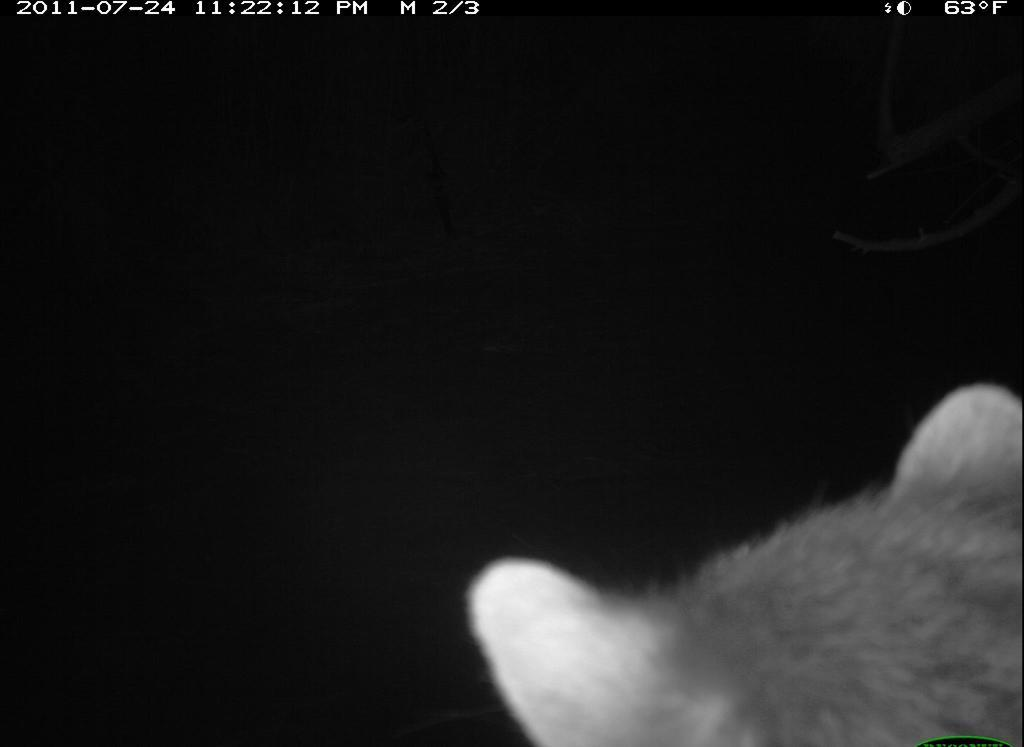raccoon: (451, 372, 1023, 747)
